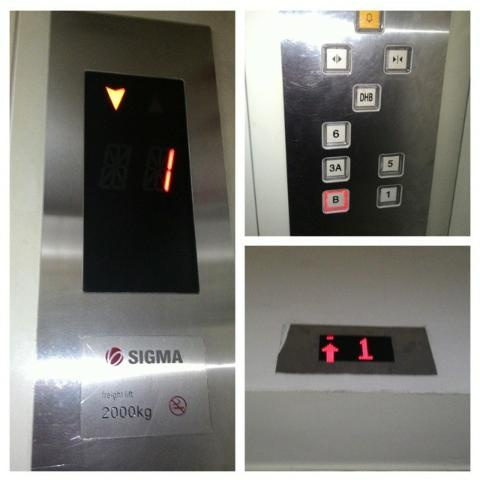1: (377, 184, 402, 209)
3A: (321, 154, 349, 183)
5: (377, 152, 405, 178)
6: (322, 120, 351, 149)
B: (321, 188, 350, 213)
DHB: (352, 83, 381, 112)
alarm: (354, 11, 386, 34)
close: (383, 44, 413, 75)
led: (83, 69, 200, 294), (317, 332, 395, 364)
open: (322, 45, 351, 76)
